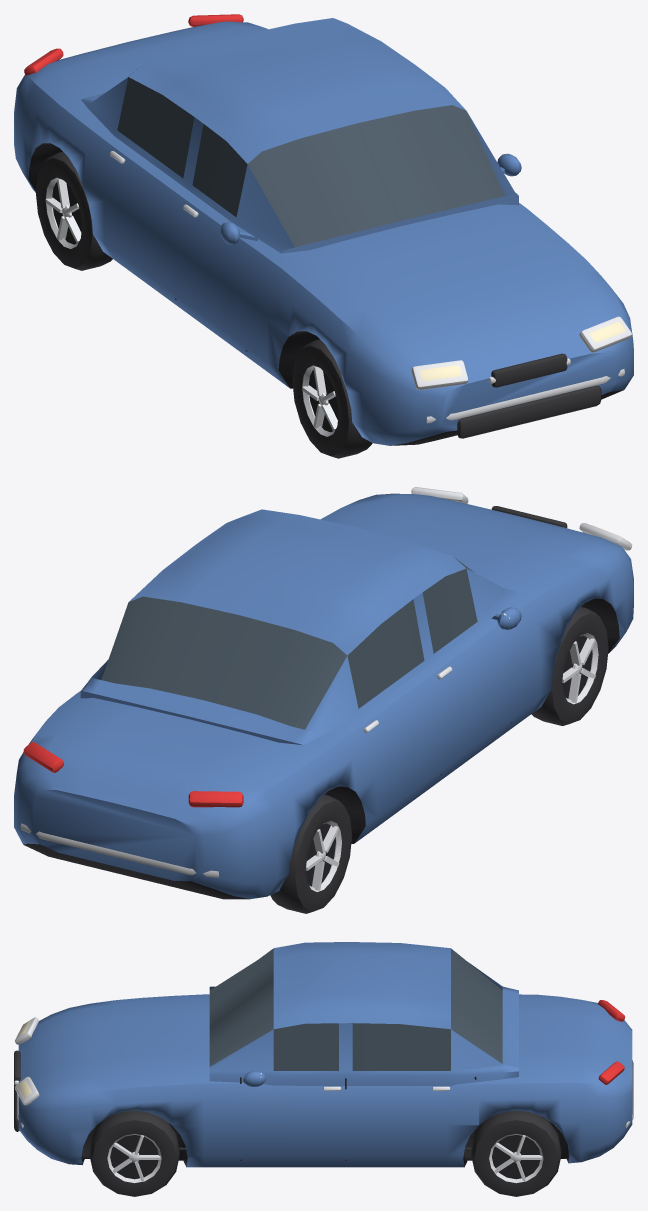
Rendered from Car_Sedan.fbx.
3 views of the same model, one above another, from view 1: azimuth 30°, elevation 25°; view 2: azimuth 150°, elevation 25°; view 3: azimuth 270°, elevation 25° (orthographic). The views are drawn at different scales.
Parts seen in each view (by area): view 1: Car_Sedan; view 2: Car_Sedan; view 3: Car_Sedan.
Part boxes in pixels (x1,y1,x2,y2): Car_Sedan: (14, 14, 633, 458); Car_Sedan: (14, 487, 633, 913); Car_Sedan: (14, 942, 633, 1196).
Size of the model in its own units: 1.86 by 1.45 by 4.55.
